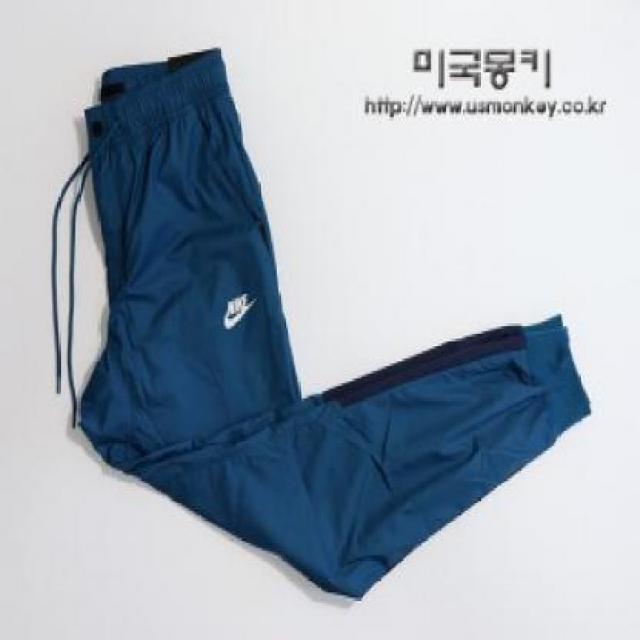Nike: (222, 291, 255, 327)
